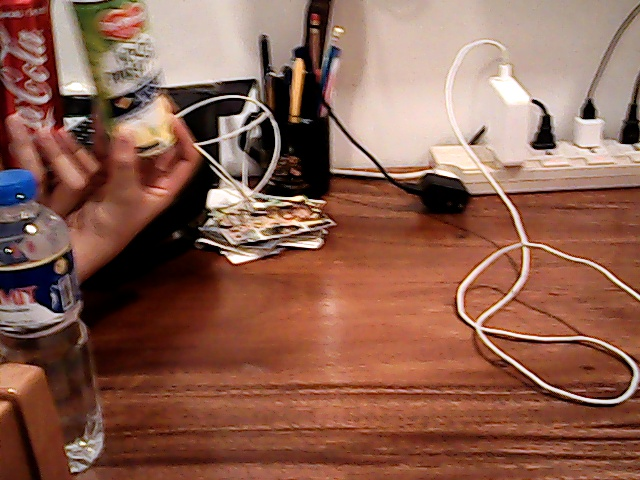Cola: (1, 1, 72, 179)
Pine Juice: (75, 1, 175, 152)
Summit Water: (1, 187, 121, 467)
